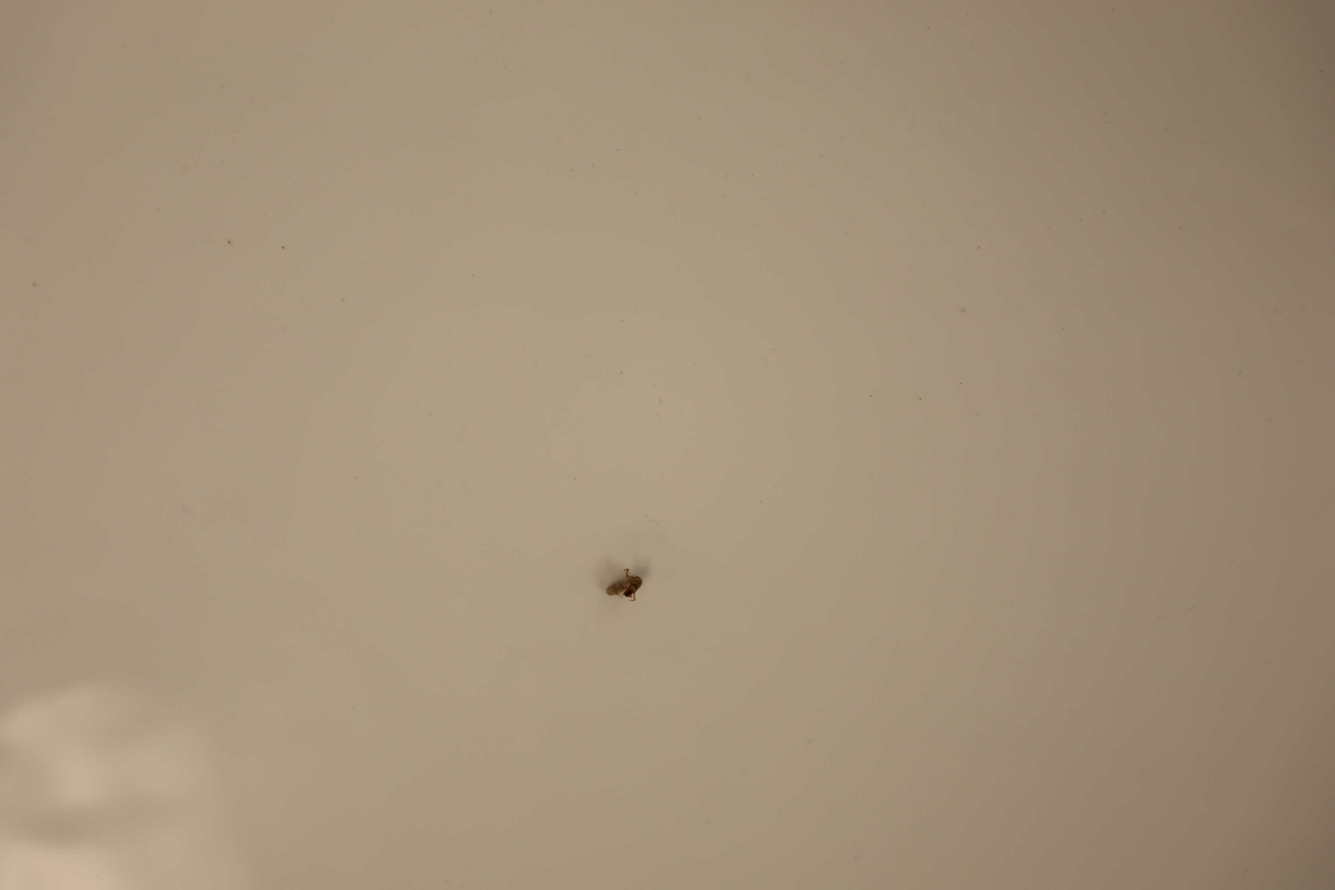Cadisfly: (601, 563, 641, 606)
